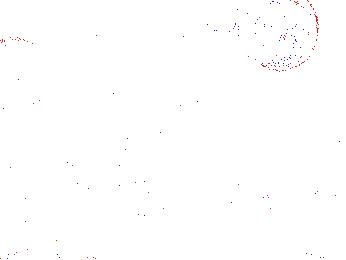moon jellyfish: (139, 19, 244, 109), (234, 1, 319, 73), (102, 1, 194, 59), (69, 13, 127, 81), (1, 38, 52, 99)
